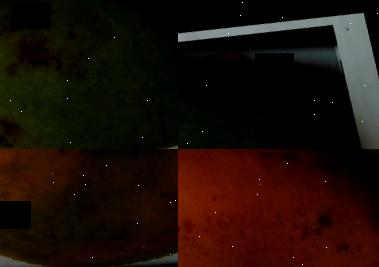PartiallyRipe: (0, 149, 178, 267)
Ripe: (178, 149, 379, 267)
Unripe: (178, 11, 376, 149), (0, 0, 178, 149)
